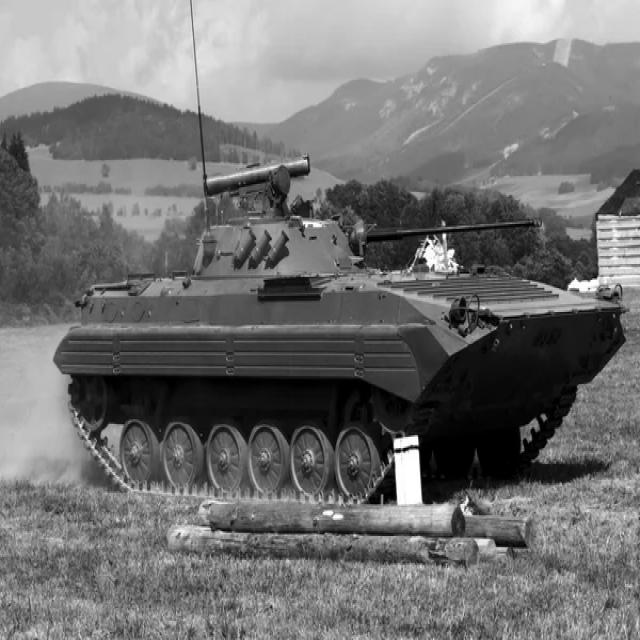Tank: (48, 142, 628, 501)
